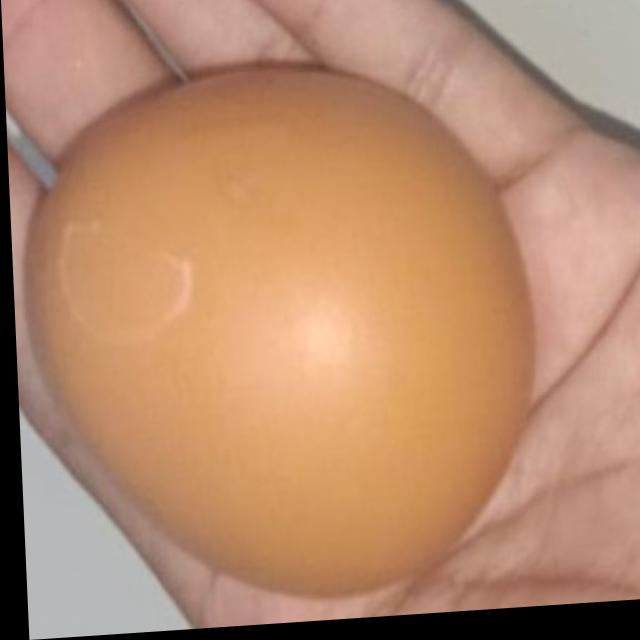fresh: (17, 66, 533, 613)
